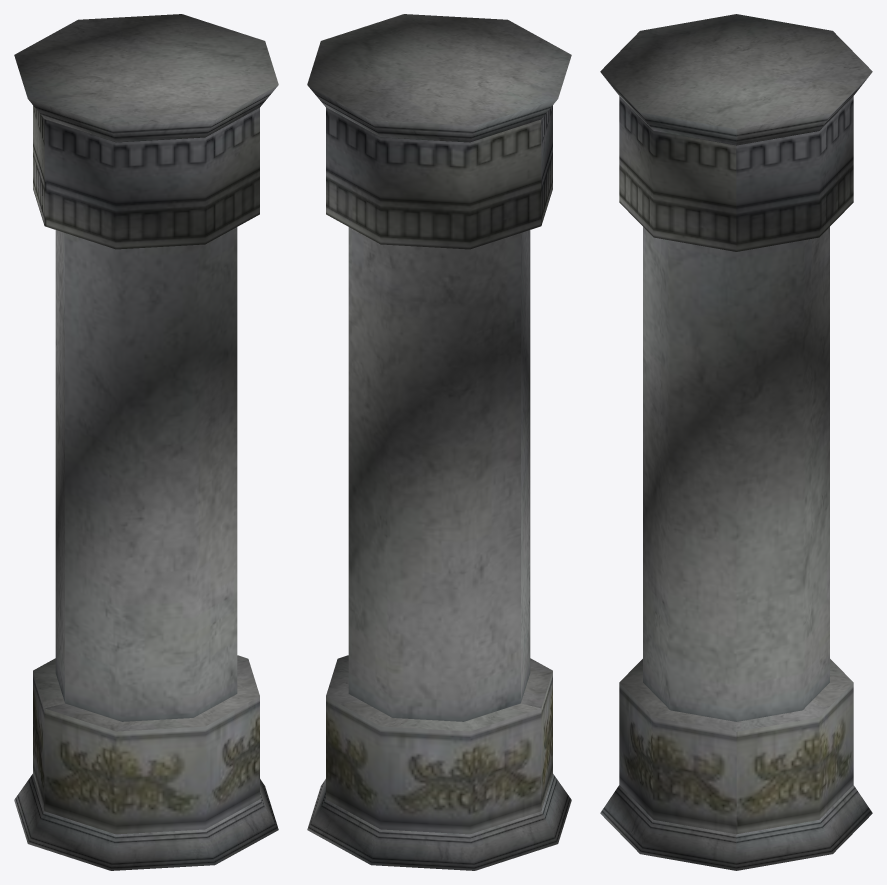
Rendered from pillar_01.glb.
3 renders of one model, left to right at view 1: azimuth 30°, elevation 25°; view 2: azimuth 150°, elevation 25°; view 3: azimuth 270°, elevation 25°, orthographic.
Parts seen in each view (by area): view 1: pillar_01; view 2: pillar_01; view 3: pillar_01.
Boxes of the visible parts, x1,y1,x2,y2 form: pillar_01: (14,14,278,870); pillar_01: (307,14,571,870); pillar_01: (600,14,872,870).
Bounding box in the file's own units: 1 × 3 × 1.
Materials: 1 (1 with a texture image).
